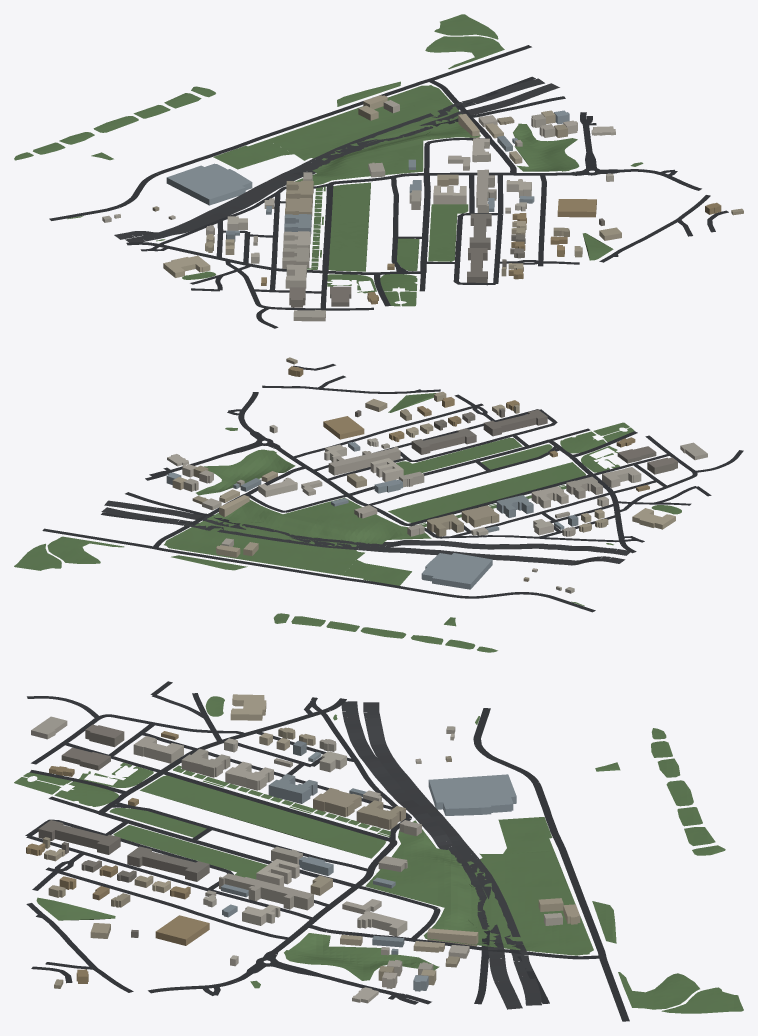
File: tile_7_9.glb
The picture shows the model from 3 angles, top to bottom: view 1: azimuth 30°, elevation 25°; view 2: azimuth 150°, elevation 25°; view 3: azimuth 270°, elevation 25°; orthographic projection. The views are drawn at different scales.
Visible parts, largest first — view 1: grn_7_9, road_7_9, bld_7_9; view 2: grn_7_9, bld_7_9, road_7_9; view 3: grn_7_9, bld_7_9, road_7_9.
Boxes of the visible parts, x1=… form: grn_7_9: x1=14, y1=14, x2=643, y2=306; road_7_9: x1=49, y1=45, x2=728, y2=328; bld_7_9: x1=102, y1=95, x2=743, y2=321; grn_7_9: x1=14, y1=393, x2=681, y2=652; bld_7_9: x1=166, y1=357, x2=707, y2=593; road_7_9: x1=42, y1=364, x2=743, y2=612; grn_7_9: x1=14, y1=696, x2=743, y2=1013; bld_7_9: x1=26, y1=694, x2=580, y2=1003; road_7_9: x1=25, y1=681, x2=629, y2=1021.
Size of the model in its own units: 881 by 41.64 by 866.
